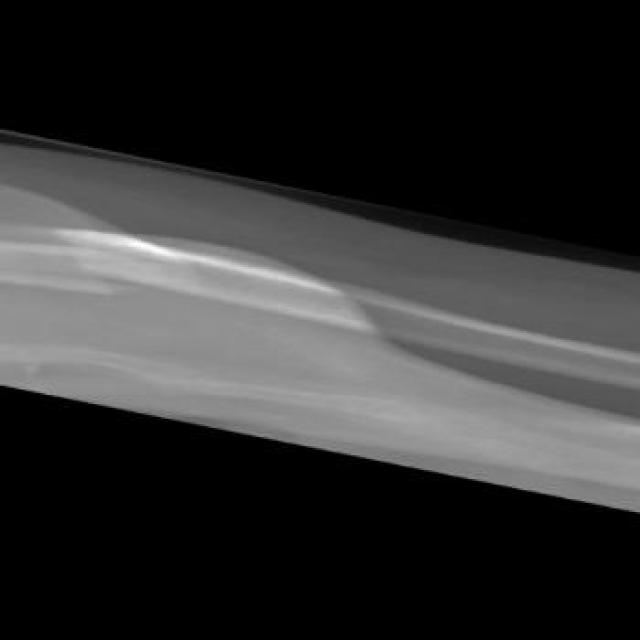Fracture: (42, 215, 166, 324)
